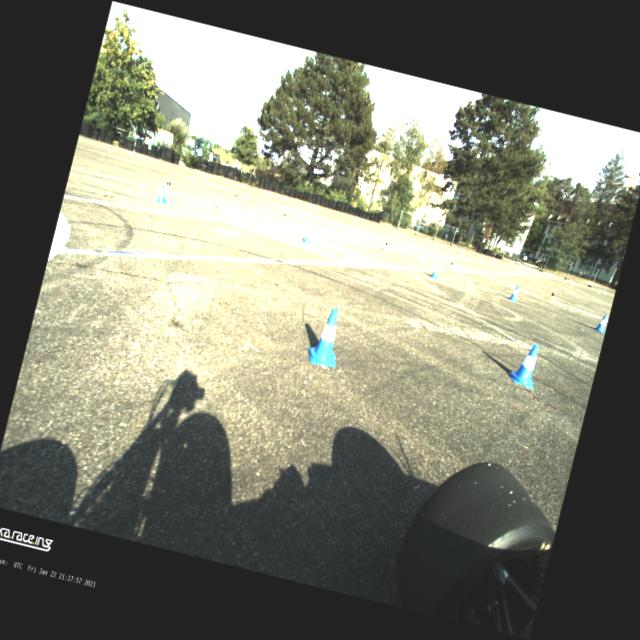blue_cone: (304, 304, 348, 369), (506, 341, 543, 388), (594, 312, 608, 333), (156, 184, 170, 204), (302, 225, 314, 244), (508, 284, 520, 302), (430, 261, 441, 279), (131, 150, 136, 156), (203, 172, 207, 178)
yellow_cone: (548, 288, 556, 302), (448, 258, 456, 270), (382, 239, 389, 251), (107, 144, 113, 152), (263, 190, 267, 197)
